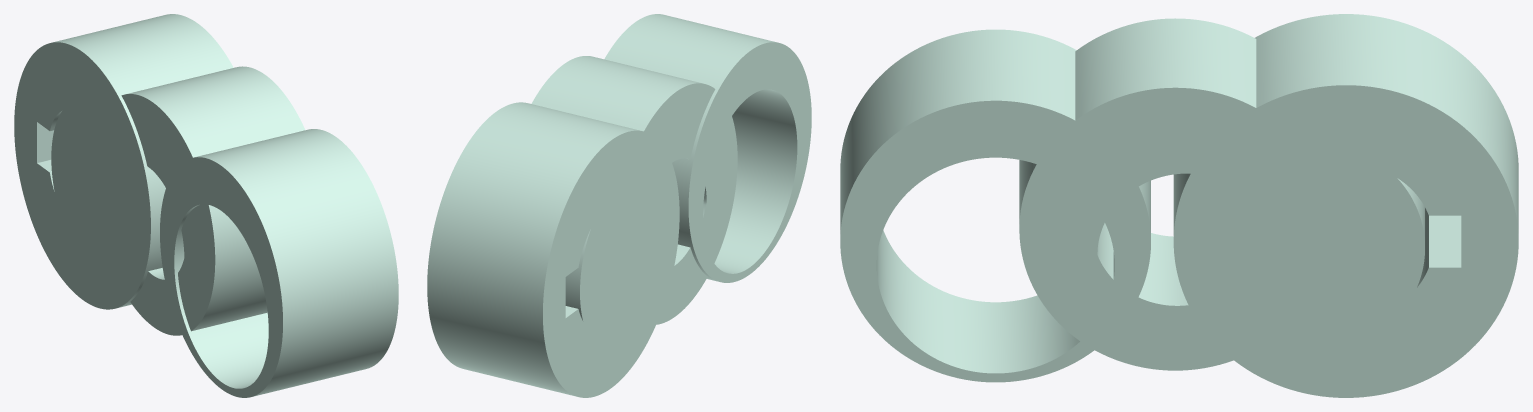
3 renders of one model, left to right at view 1: azimuth 30°, elevation 25°; view 2: azimuth 150°, elevation 25°; view 3: azimuth 270°, elevation 25°, orthographic. The views are drawn at different scales.
Parts seen in each view (by area): view 1: Renderer Node; view 2: Renderer Node; view 3: Renderer Node.
Boxes of the visible parts, <box> form: Renderer Node: <box>14,14,398,397</box>; Renderer Node: <box>427,14,811,397</box>; Renderer Node: <box>840,14,1518,397</box>.
Size of the model in its own units: 0.2891 by 0.5921 by 1.16.
